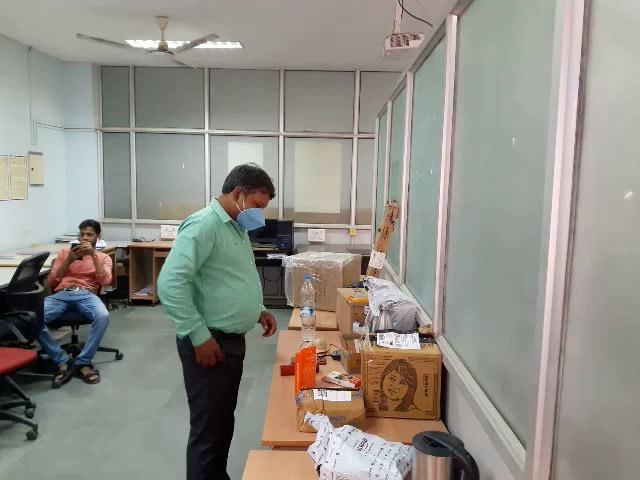Normal: (1, 7, 414, 480)
shoplifting: (146, 284, 302, 379)
